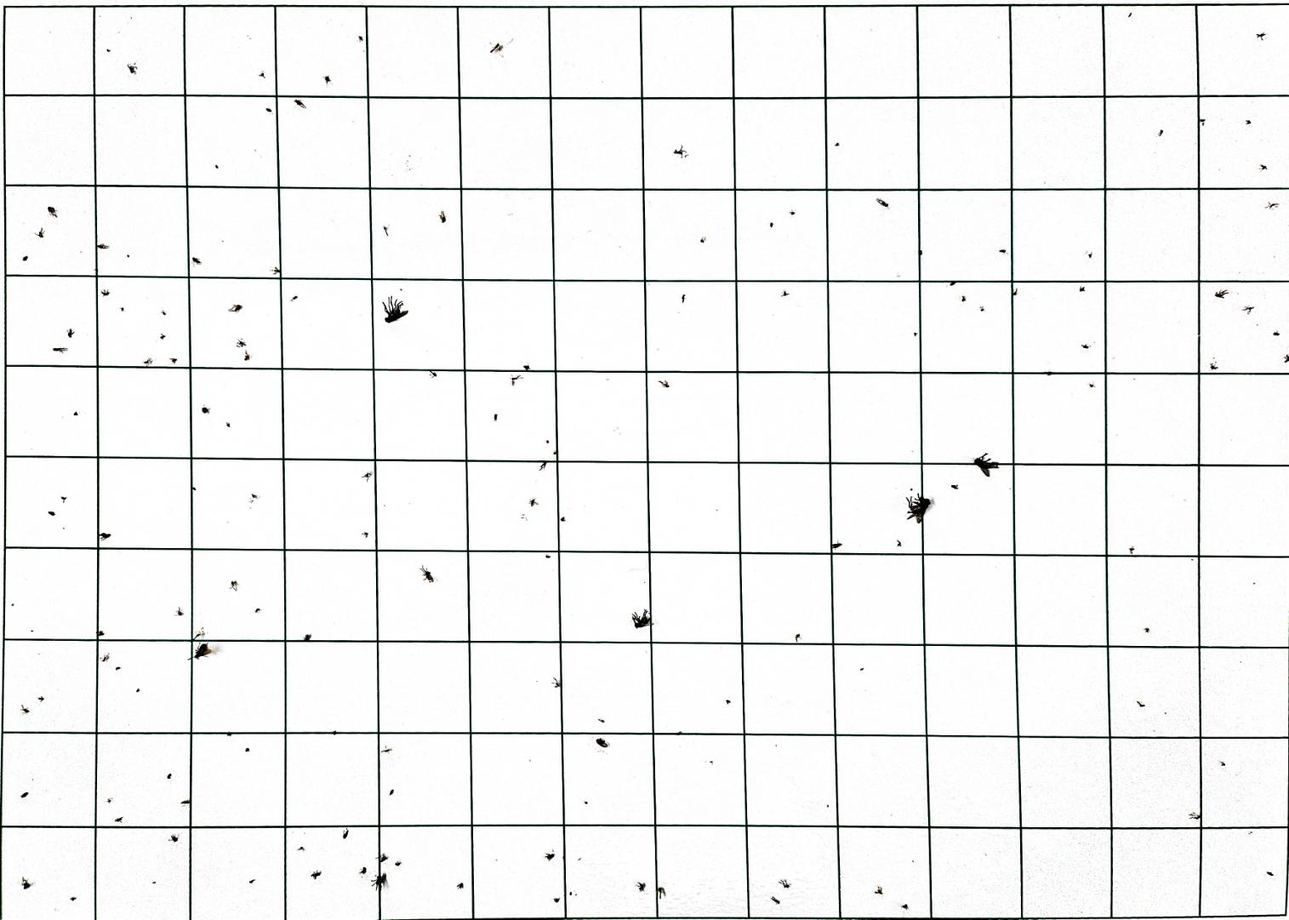fly: (905, 492, 933, 522), (973, 453, 998, 477), (383, 300, 405, 323), (190, 639, 213, 661), (631, 608, 652, 628)
test: (373, 874, 391, 892), (420, 564, 435, 583), (673, 145, 689, 159), (21, 876, 35, 889), (489, 42, 504, 54), (375, 852, 389, 864), (595, 737, 609, 748), (1214, 289, 1229, 299), (656, 885, 667, 898), (510, 375, 523, 386), (778, 878, 791, 889), (310, 869, 322, 880), (127, 63, 138, 75), (47, 206, 58, 218), (1265, 201, 1279, 210), (635, 880, 646, 891), (544, 851, 556, 861), (552, 676, 562, 688), (876, 198, 889, 207), (228, 304, 242, 312), (1241, 306, 1255, 314), (236, 338, 247, 348), (249, 494, 259, 505), (36, 227, 46, 238), (658, 379, 670, 388), (438, 211, 447, 223), (361, 471, 373, 480), (294, 99, 306, 108), (1188, 812, 1201, 820), (169, 833, 179, 843), (538, 461, 548, 471), (230, 580, 239, 591), (99, 532, 111, 540), (52, 347, 68, 353), (381, 746, 393, 754), (529, 498, 539, 507), (175, 606, 184, 616), (874, 885, 883, 895), (21, 705, 31, 714), (770, 895, 780, 904), (101, 652, 110, 662), (192, 256, 202, 265), (832, 541, 843, 549), (143, 357, 154, 365), (1255, 32, 1266, 40), (97, 243, 109, 250), (358, 866, 367, 875), (201, 405, 210, 414), (272, 266, 281, 275), (67, 328, 75, 338), (1136, 699, 1146, 707), (342, 828, 349, 839), (382, 225, 389, 236), (324, 75, 332, 84), (303, 633, 312, 641), (794, 633, 802, 642), (101, 289, 110, 297), (1210, 362, 1219, 370), (180, 799, 190, 806), (1259, 164, 1269, 171), (781, 289, 789, 297), (429, 370, 437, 378), (97, 629, 105, 637), (225, 729, 233, 737), (244, 352, 251, 361), (114, 816, 123, 823), (20, 791, 29, 798), (103, 46, 112, 53), (1081, 343, 1091, 349), (248, 878, 256, 885), (456, 882, 464, 889), (170, 357, 178, 364), (901, 903, 909, 910), (1219, 760, 1227, 767), (1128, 546, 1135, 554), (290, 295, 298, 302), (1157, 129, 1164, 137), (361, 531, 369, 538), (258, 71, 266, 78), (114, 663, 121, 671), (223, 420, 231, 427), (567, 890, 574, 898), (680, 294, 686, 303), (1270, 330, 1279, 336), (553, 896, 560, 903), (789, 209, 796, 216), (1199, 118, 1206, 125), (265, 107, 272, 114), (330, 729, 337, 736), (552, 449, 559, 456), (544, 553, 551, 560), (912, 330, 919, 337), (48, 510, 56, 516), (896, 539, 902, 547), (951, 484, 959, 490), (1012, 288, 1018, 296), (389, 788, 395, 796), (1266, 870, 1274, 876), (1087, 251, 1093, 259), (358, 35, 364, 43), (61, 496, 68, 502), (38, 696, 45, 702), (395, 860, 402, 866), (1143, 627, 1150, 633), (979, 306, 986, 312), (161, 309, 167, 316), (166, 772, 172, 779), (523, 364, 530, 370), (1079, 286, 1086, 292), (768, 222, 774, 229), (700, 236, 706, 243), (22, 255, 29, 261), (134, 687, 141, 693), (1127, 10, 1133, 17), (493, 413, 498, 421), (999, 248, 1007, 253), (949, 281, 957, 286), (297, 846, 305, 851), (69, 896, 77, 901), (560, 516, 565, 524), (917, 248, 922, 256), (597, 718, 605, 723), (160, 334, 166, 340), (1089, 382, 1095, 388), (107, 797, 113, 803), (1285, 354, 1289, 363), (725, 698, 731, 704), (191, 485, 197, 491), (961, 295, 966, 302), (254, 608, 261, 613), (1245, 119, 1252, 124), (399, 285, 404, 292), (120, 306, 125, 313), (544, 438, 549, 445), (73, 411, 79, 416), (245, 747, 250, 753), (834, 142, 840, 147), (28, 628, 34, 633), (858, 666, 863, 672), (582, 798, 587, 804), (214, 163, 219, 168), (707, 759, 712, 764), (1046, 371, 1051, 376), (9, 602, 15, 606), (125, 253, 131, 257), (151, 881, 156, 885), (825, 803, 828, 809)
